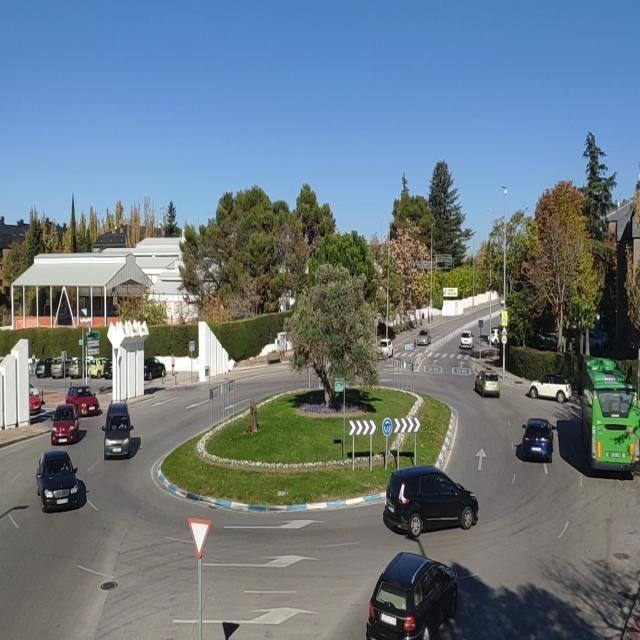Bus: (578, 355, 640, 473)
Car: (365, 550, 460, 640), (383, 466, 478, 536), (35, 451, 84, 512), (101, 403, 135, 458), (517, 419, 555, 461), (528, 373, 571, 402), (50, 404, 80, 444), (65, 385, 100, 416), (474, 370, 501, 398), (50, 356, 76, 379), (67, 357, 91, 379), (143, 358, 166, 380), (35, 358, 57, 378), (589, 330, 609, 351), (88, 358, 108, 378), (378, 338, 393, 358), (29, 391, 41, 415), (416, 330, 432, 346), (488, 327, 502, 345), (459, 332, 473, 349), (103, 358, 112, 380), (29, 382, 40, 399)
